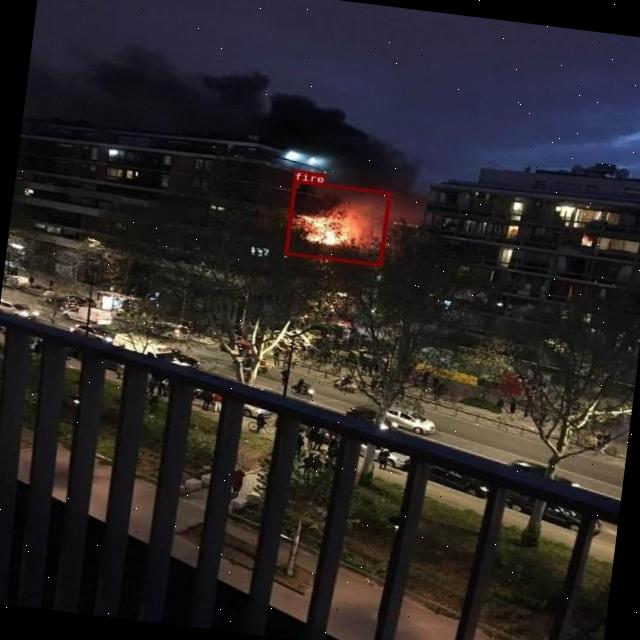fire: (283, 180, 390, 266)
